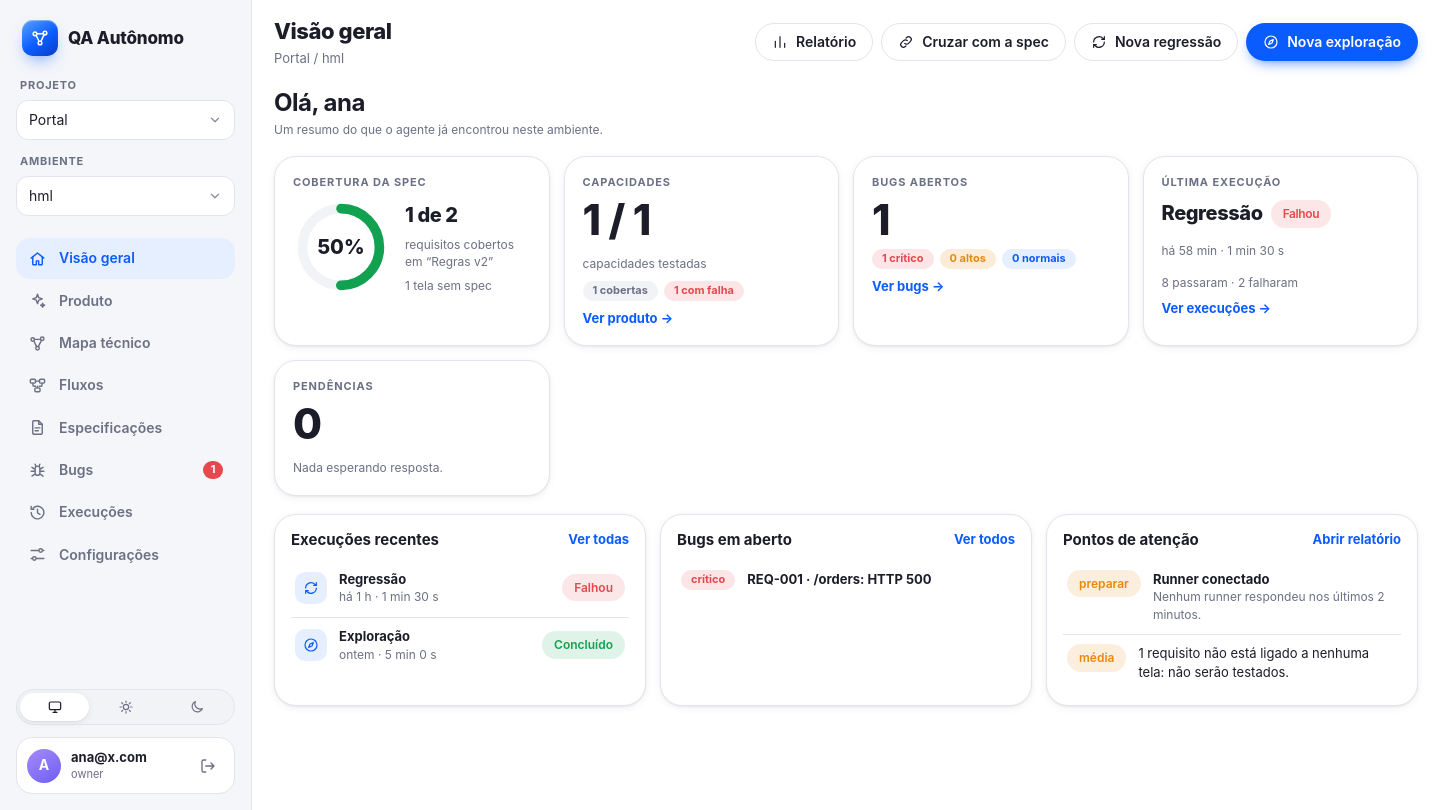
Test: limpeza de usabilidade › a visão geral lista o que merece atenção e o que falta preparar, com atalho para o relatório
Check: the text "Runner conectado" is shown, box x1=1153 y1=571 x2=1270 y2=587
Check: the text "preparar" is shown, box x1=1067 y1=570 x2=1141 y2=597
Click the button "Abrir relatório" at [1357, 540], box x1=1313 y1=530 x2=1401 y2=549
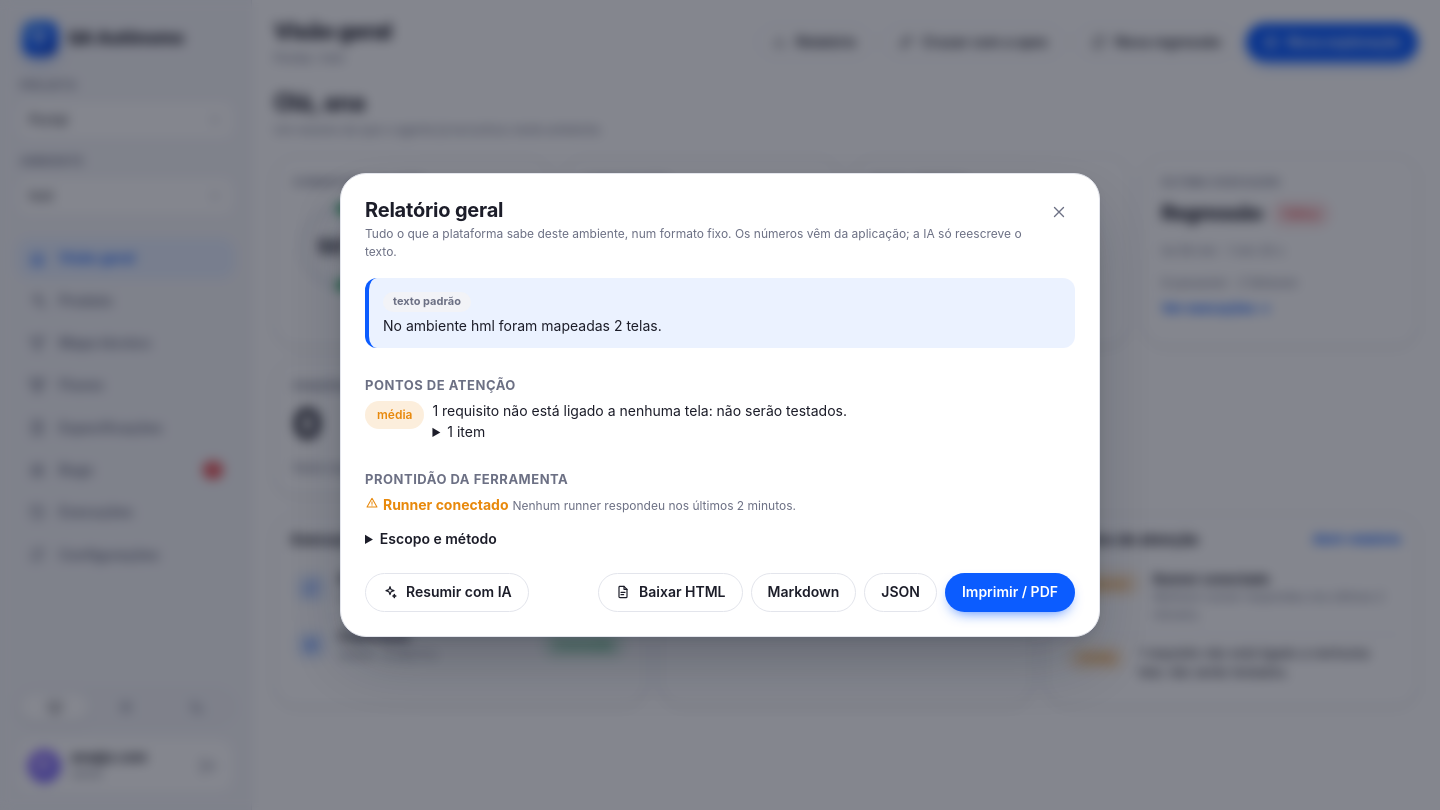
Check: the dialog "Relatório geral" is shown, box x1=340 y1=173 x2=1100 y2=637
